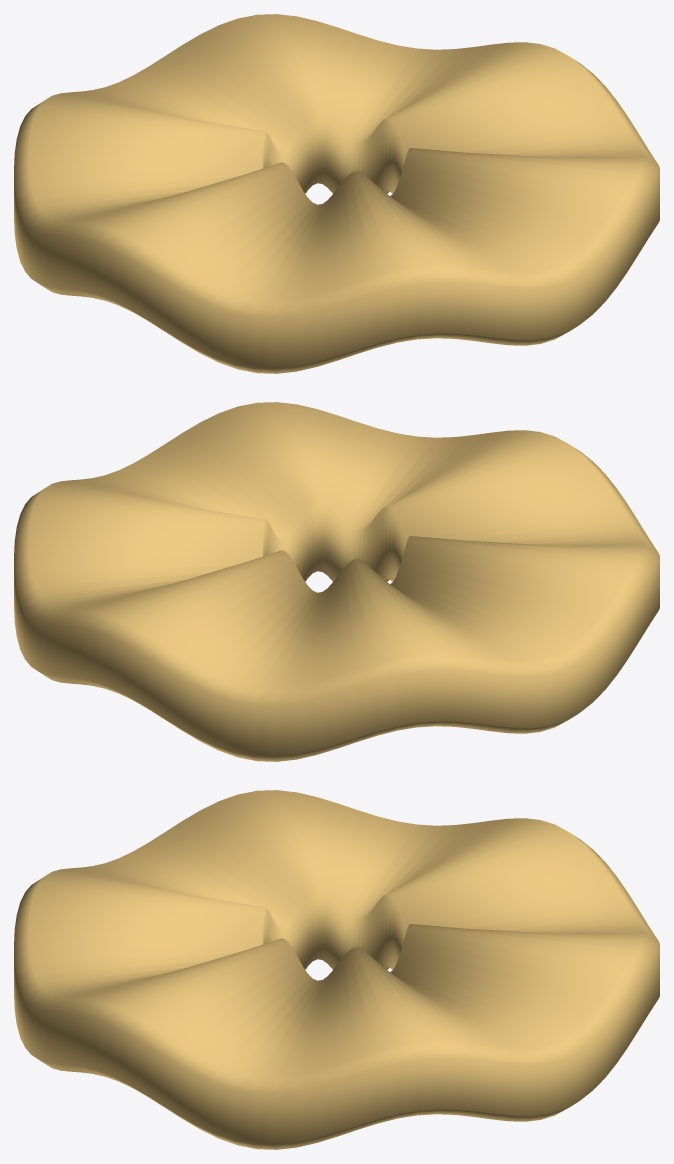
Rendered from spacer-03-gold.glb.
3 views of the same model, one above another, from view 1: azimuth 30°, elevation 25°; view 2: azimuth 150°, elevation 25°; view 3: azimuth 270°, elevation 25° (orthographic).
Parts seen in each view (by area): view 1: Spacer with through bore.004; view 2: Spacer with through bore.004; view 3: Spacer with through bore.004.
Boxes of the visible parts, x1,y1,x2,y2 form: Spacer with through bore.004: (14,14,659,373); Spacer with through bore.004: (14,402,659,761); Spacer with through bore.004: (14,790,659,1149).
Size of the model in its own units: 0.0052 by 0.00095 by 0.0052.
